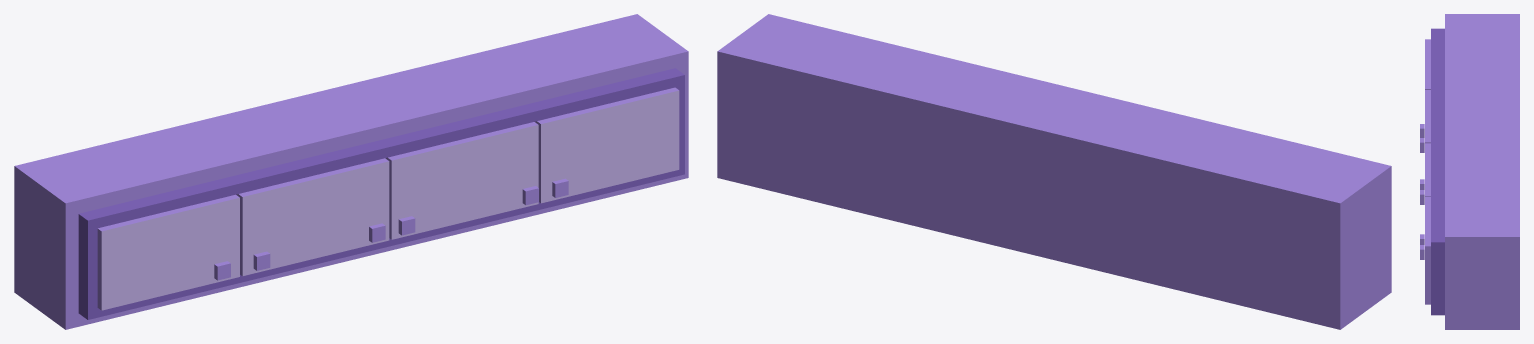
Rendered from estanteria.fbx.
3 views of the same model, side by side, from view 1: azimuth 30°, elevation 25°; view 2: azimuth 150°, elevation 25°; view 3: azimuth 270°, elevation 25° (orthographic). The views are drawn at different scales.
Visible parts, largest first — view 1: estantería; view 2: estantería; view 3: estantería.
Boxes of the visible parts, left/top/right/bottom form: estantería: left=14, top=14, right=688, bottom=329; estantería: left=717, top=14, right=1391, bottom=329; estantería: left=1420, top=14, right=1519, bottom=329.
Size of the model in its own units: 1463 by 284 by 276.
